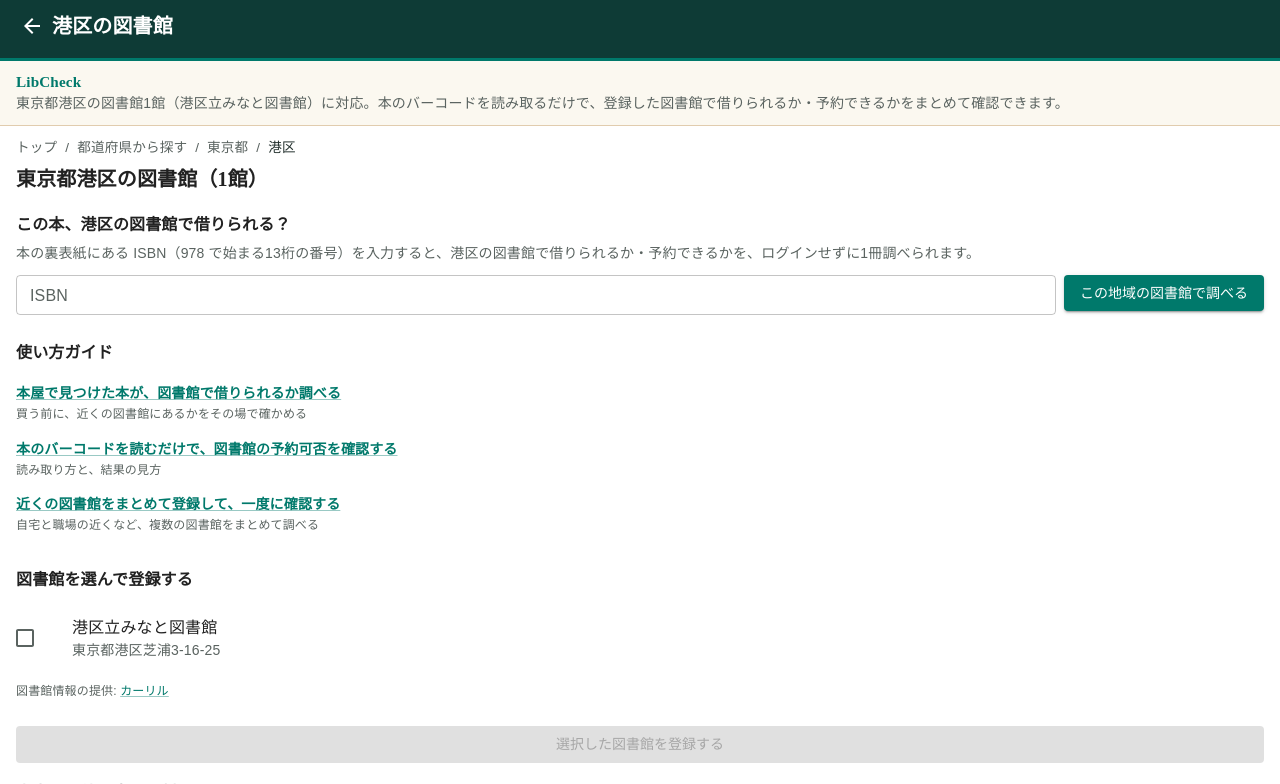
ログインなしの体験版（#183） › 他の市区町村へ移動したら、前の市区町村の体験版の結果を消す
This screenshot has width=1280, height=784.
Step 1. Type "9784003101018" into the field labelled "ISBN" → x=536, y=295, box [16,275,1056,315]
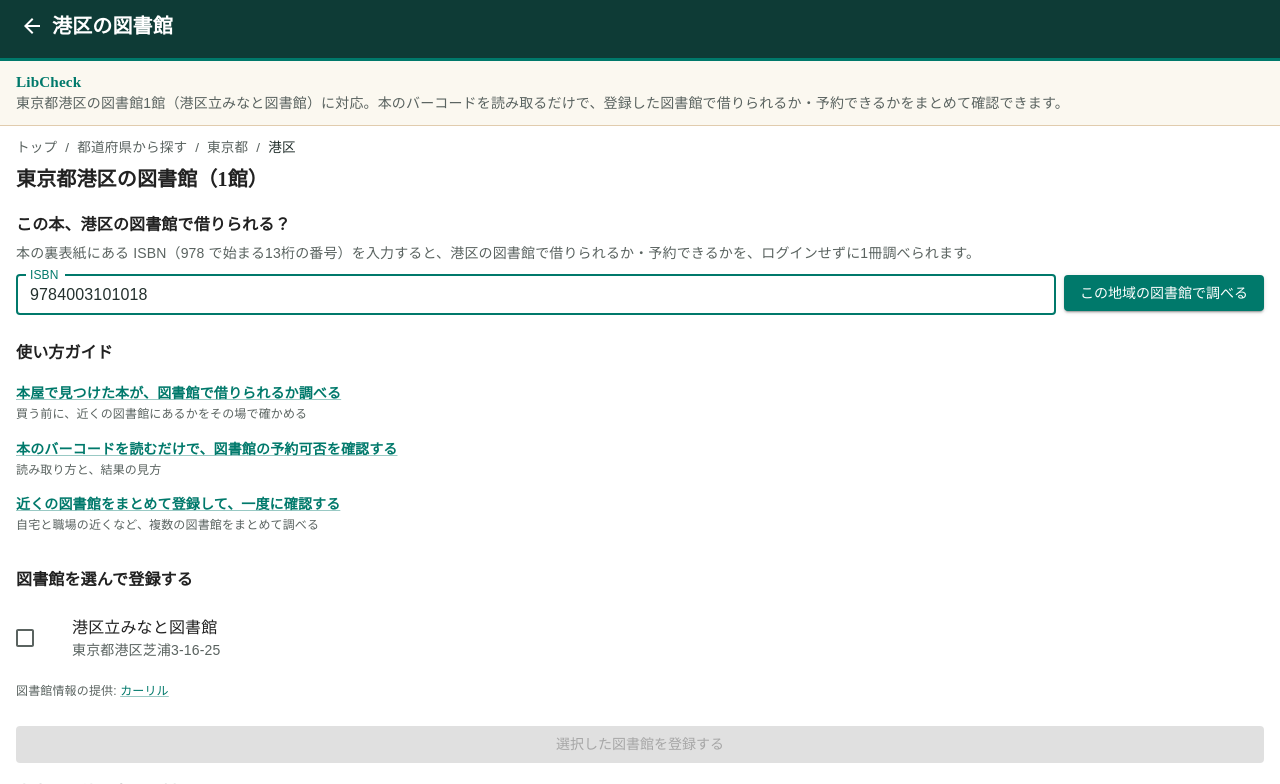
Step 2. Click the button "この地域の図書館で調べる" → x=1164, y=293, box [1064,275,1264,311]
(page scrolled)
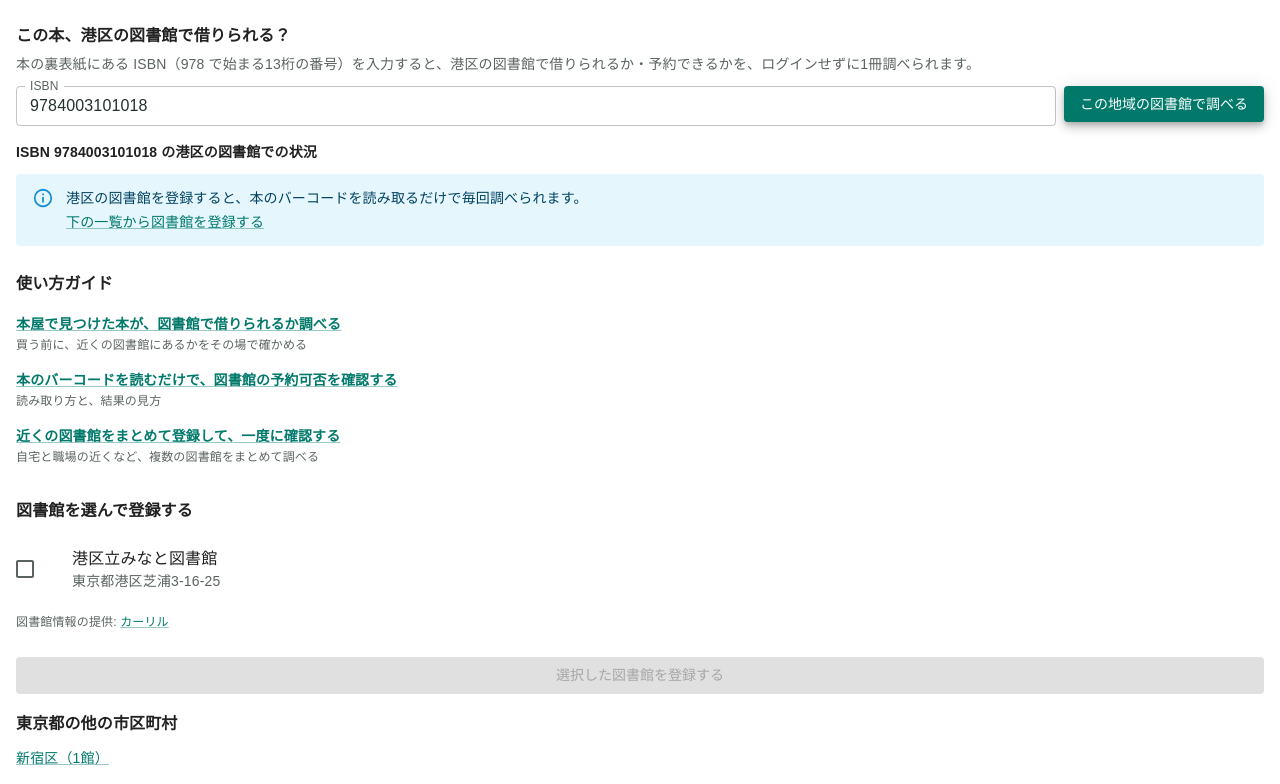
Step 3. Click the link "新宿区（1館）" → x=62, y=758, box [16,750,109,766]
(page scrolled)
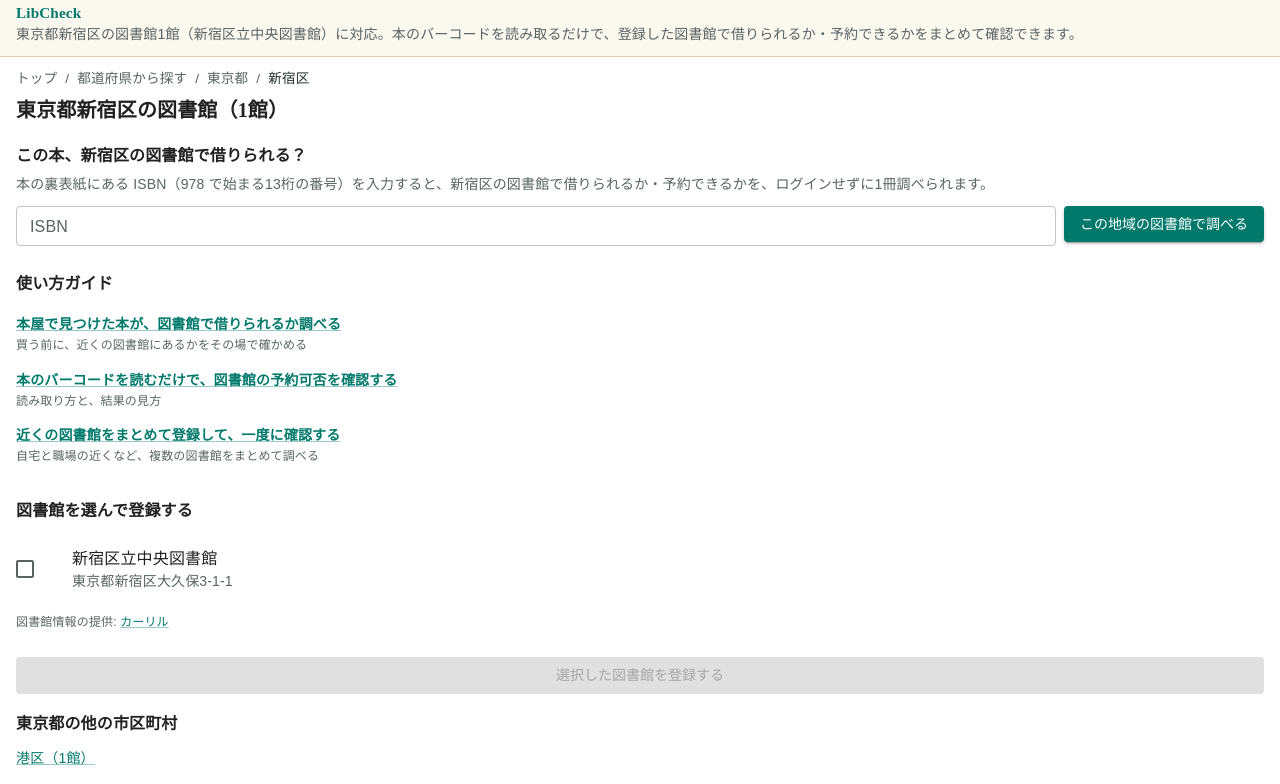
Check: the heading "東京都新宿区の図書館（1館）" is shown, box [16,99,288,121]
Check: the field labelled "ISBN" is empty, box [16,206,1056,246]
